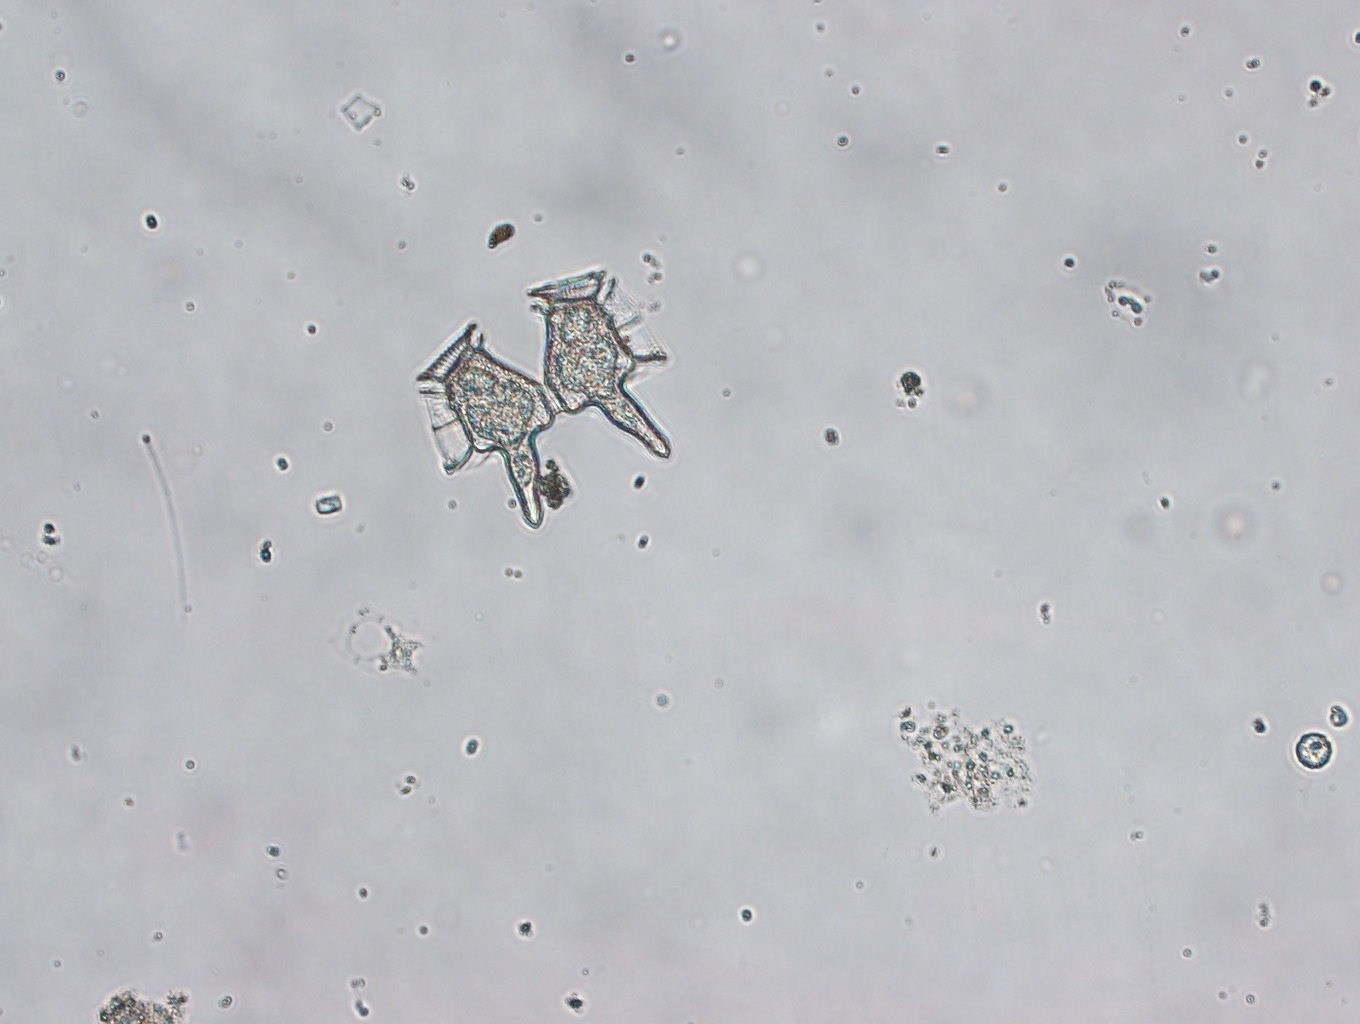dinophysis caudata: (414, 267, 673, 527)
